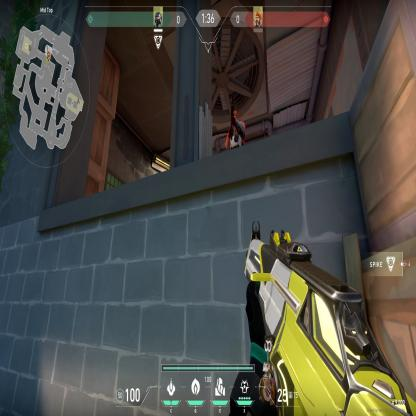enemy: (224, 108, 247, 152)
